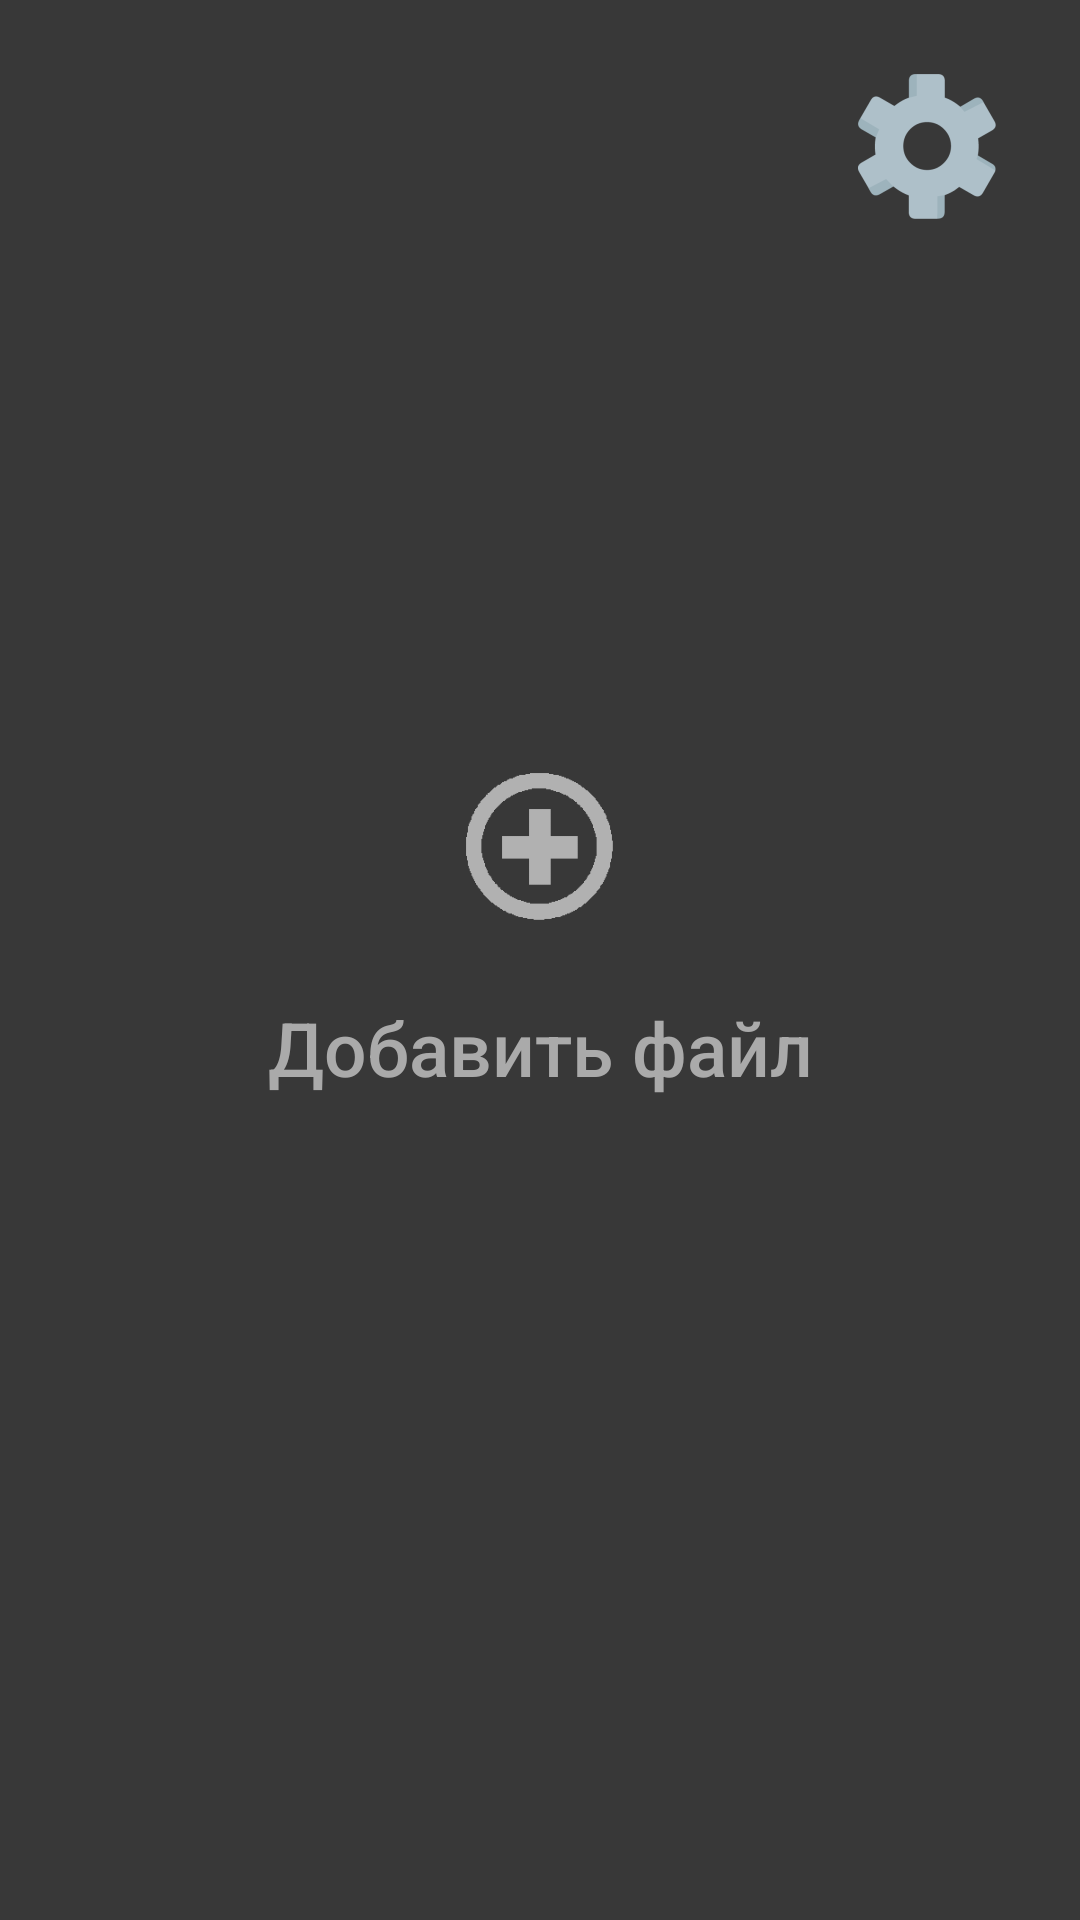

Icon click points for this 1080*1920 phone screenshot, format [x,y]:
settings: [927,146]
